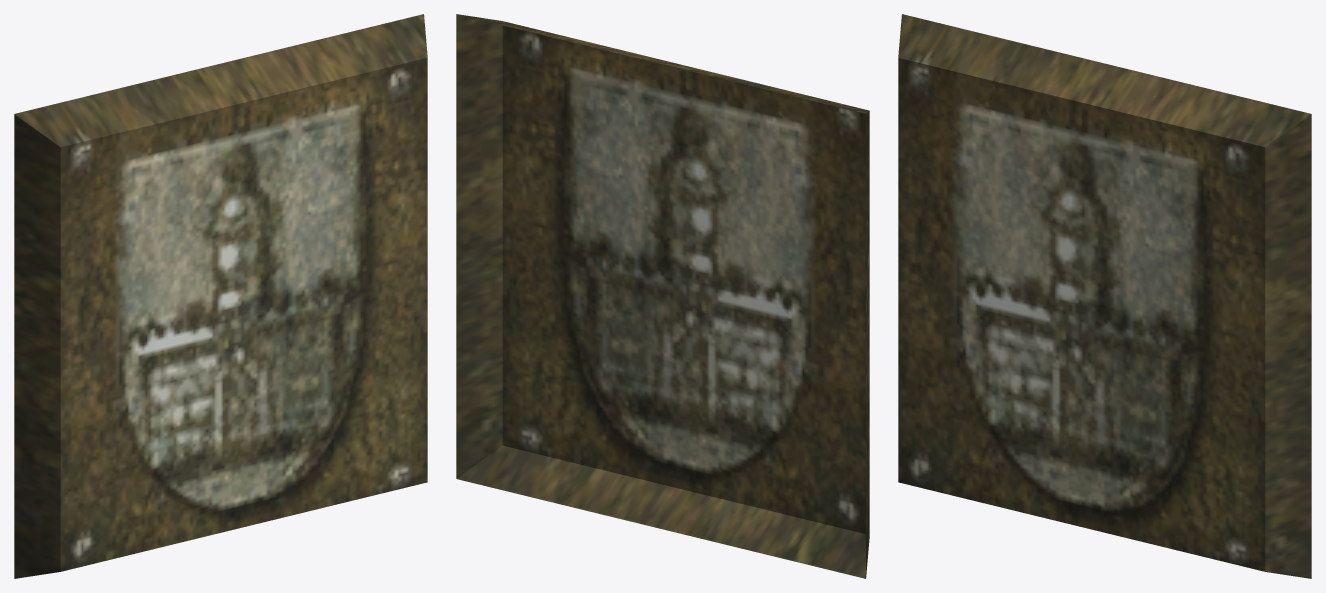
File: gerb.glb
3 renders of one model, left to right at view 1: azimuth 30°, elevation 25°; view 2: azimuth 150°, elevation 25°; view 3: azimuth 330°, elevation 25°, orthographic.
Visible parts, largest first — view 1: gerb-col; view 2: gerb-col; view 3: gerb-col.
Boxes of the visible parts, x1,y1,x2,y2 form: gerb-col: (14, 14, 427, 578); gerb-col: (456, 14, 869, 578); gerb-col: (898, 14, 1311, 578).
Bounding box in the file's own units: 1.39 × 1.51 × 0.1478.
Materials: 1 (1 with a texture image).
